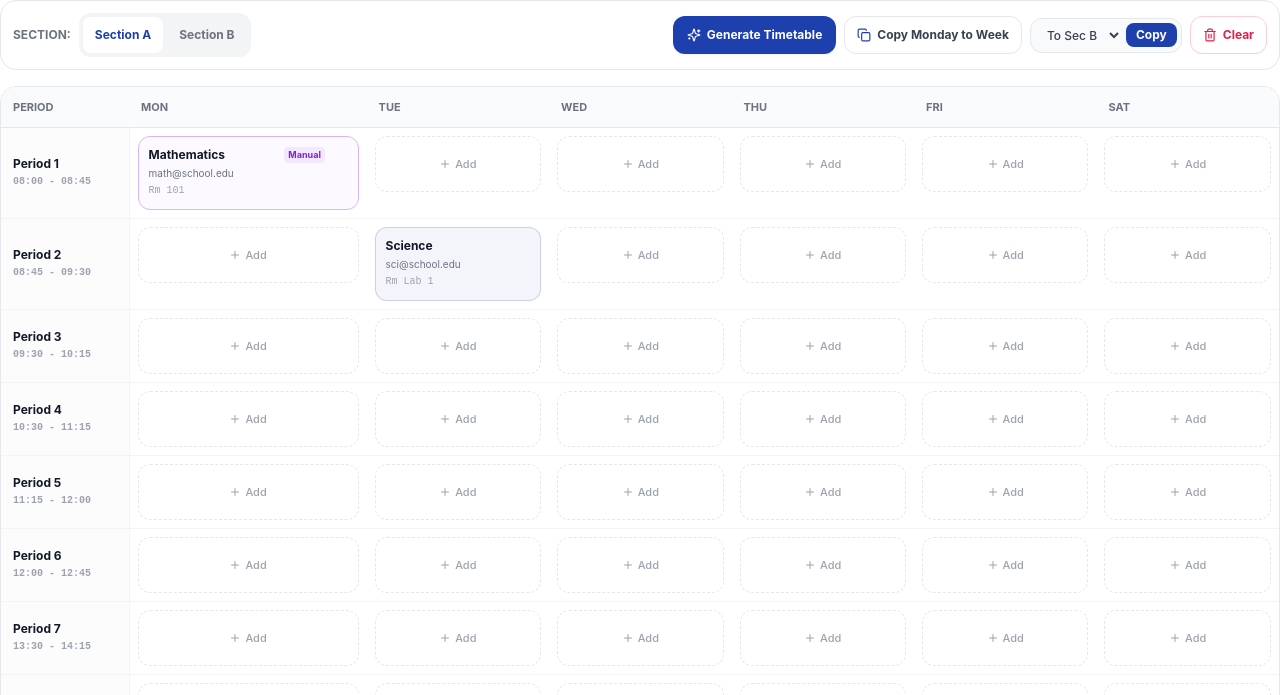
Milestone 3 Challenger 2: Mobile Reflow, Click Budget & UI Invariants › 4. Primary Click Budget Verification (<= 3 Taps) › should disable Confirm & Apply button if workload fits is false (Deficit Guard)
The width and height of the screenshot is (1280, 695).
Click the button "Generate Timetable" at (755, 35), box [673, 16, 836, 54]
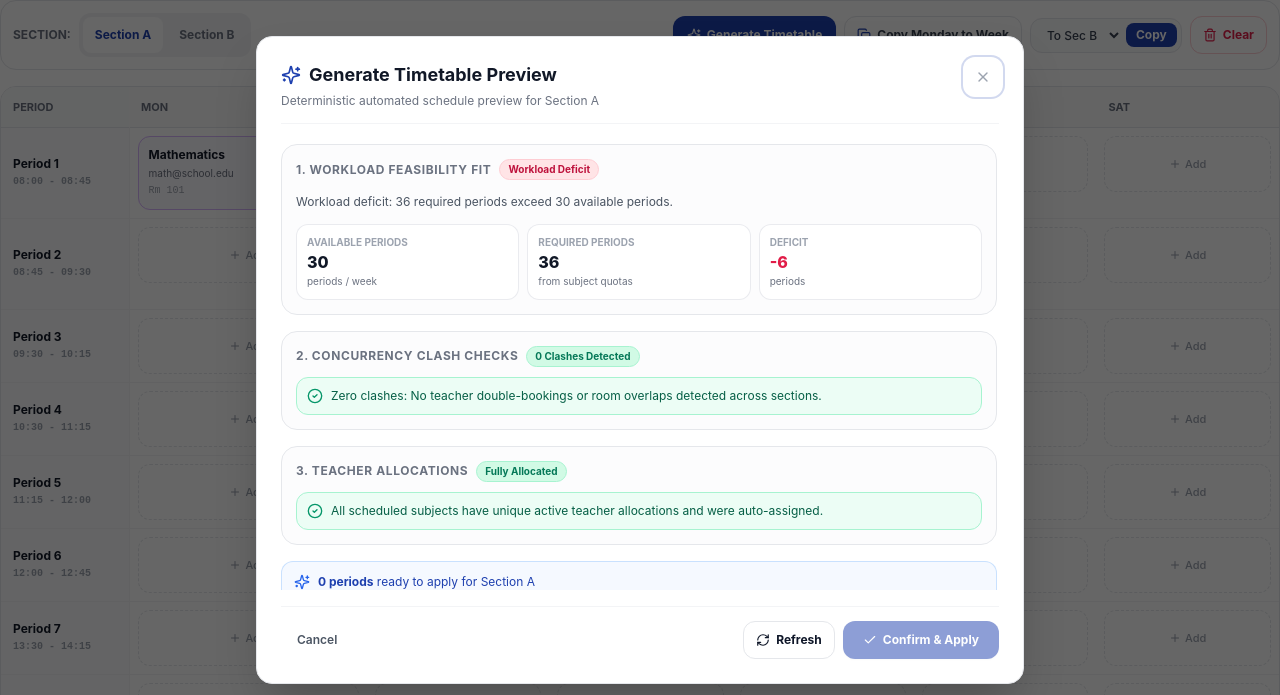
Expected: the text "Workload Deficit" is shown, [499, 159, 599, 180]
Expected: the button "Confirm & Apply" is disabled, [843, 621, 999, 659]
